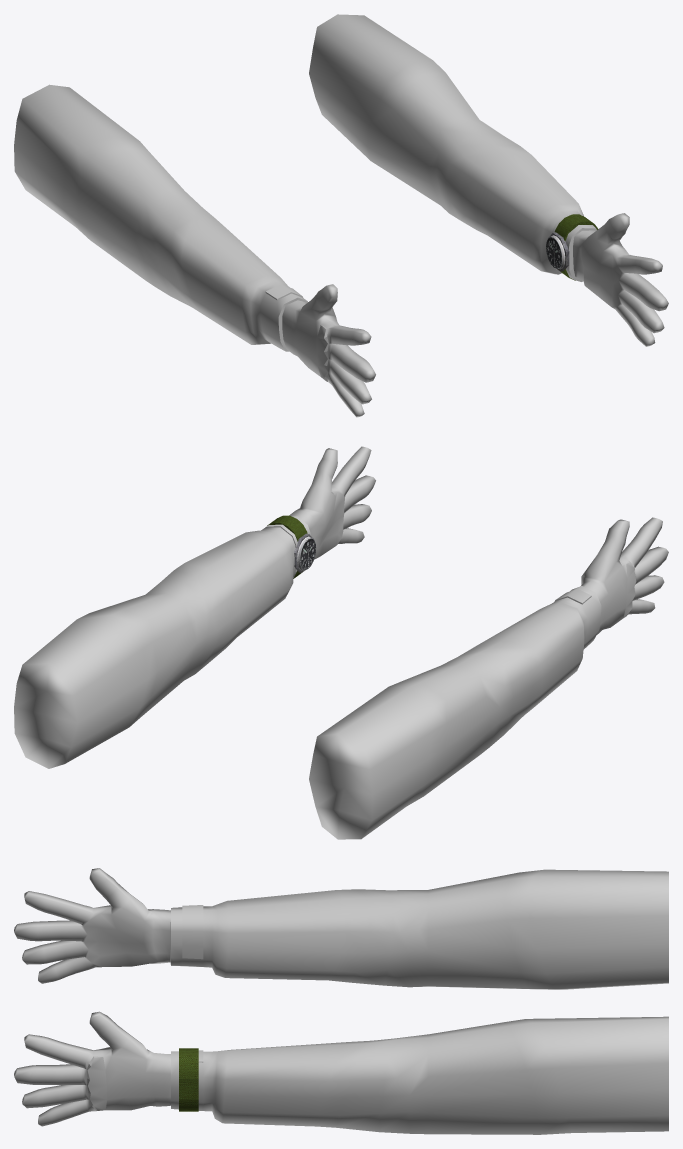
File: arm_test.fbx
3 views of the same model, one above another, from view 1: azimuth 30°, elevation 25°; view 2: azimuth 150°, elevation 25°; view 3: azimuth 270°, elevation 25° (orthographic).
Parts seen in each view (by area): view 1: pCube18; view 2: pCube18; view 3: pCube18.
Boxes of the visible parts, x1,y1,x2,y2 form: pCube18: (14,14,668,417); pCube18: (14,446,668,839); pCube18: (14,868,668,1134).
Size of the model in its own units: 48 by 14.5 by 73.61.
